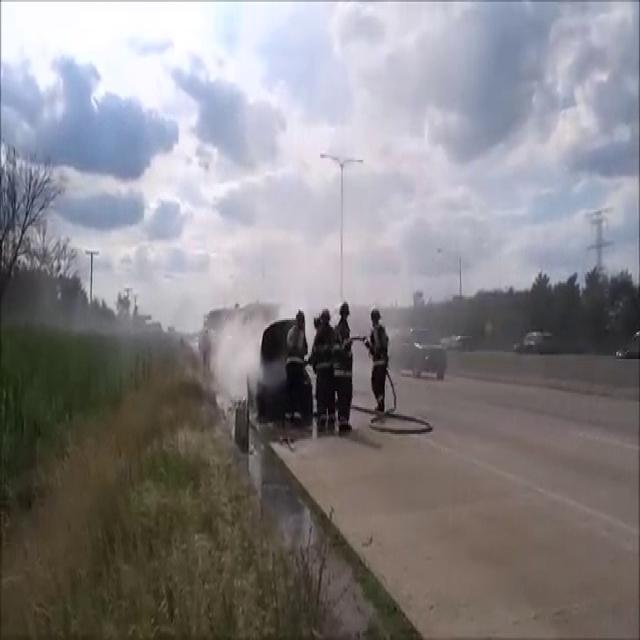Smoke: (206, 274, 270, 412)
